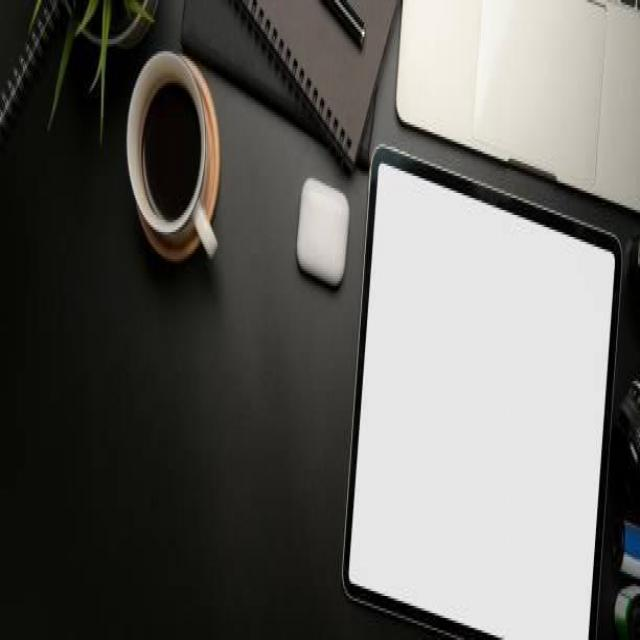cup-handle: (126, 46, 220, 266)
